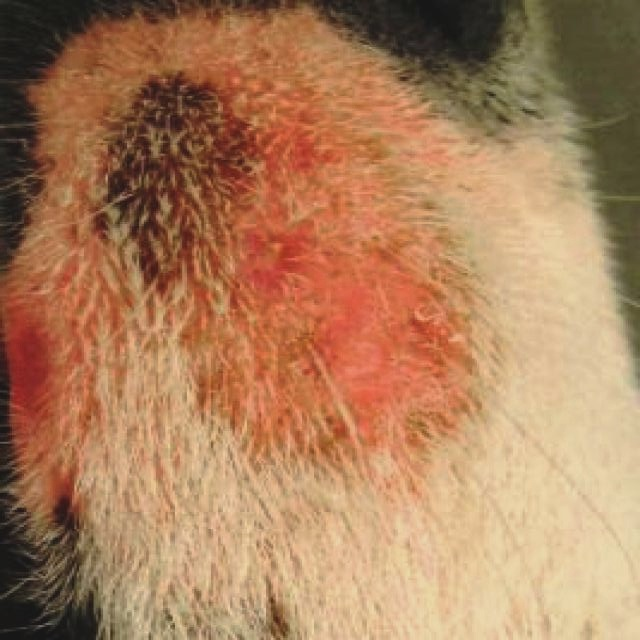ringworm: (233, 113, 416, 420)
